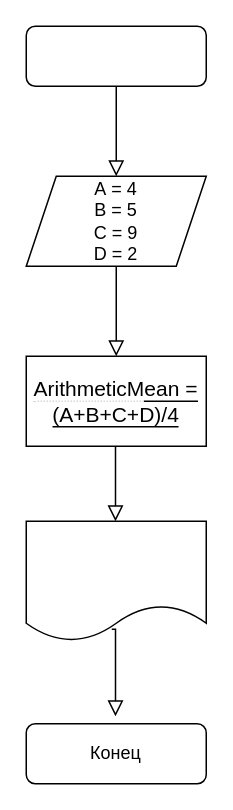
The diagram is 233 pixels wide and 810 high, and some of its shapes have lost their labels. Each missing label, with the centre of its shape:
"Print ( ArithmeticM ean )" goes at point 115,580.
"Начало" goes at point 115,55.
